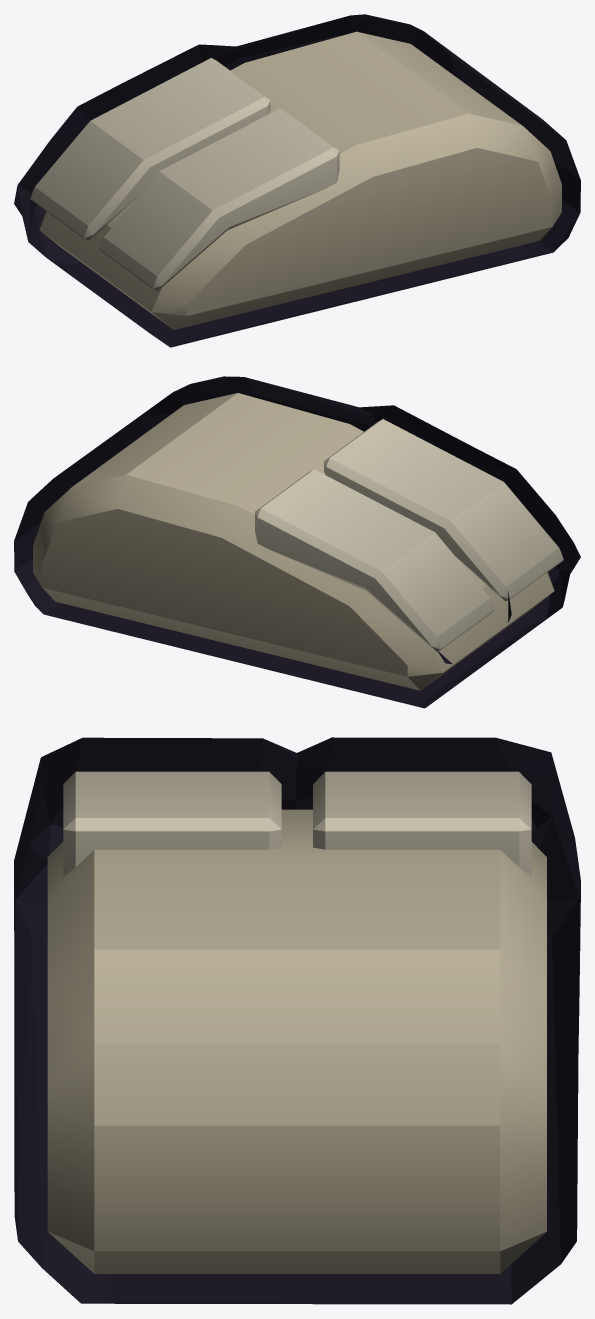
File: Mouse_Outline.glb
The picture shows the model from 3 angles, top to bottom: view 1: azimuth 30°, elevation 25°; view 2: azimuth 150°, elevation 25°; view 3: azimuth 270°, elevation 25°; orthographic projection. The views are drawn at different scales.
Visible parts, largest first — view 1: Mouse; view 2: Mouse; view 3: Mouse.
Part boxes in pixels (box(x1,y1,x2,y2)): Mouse: box(14, 14, 580, 347); Mouse: box(14, 376, 580, 708); Mouse: box(14, 737, 580, 1304).
Size of the model in its own units: 0.00535 by 0.00209 by 0.00327.
Materials: 1 (1 with a texture image).
